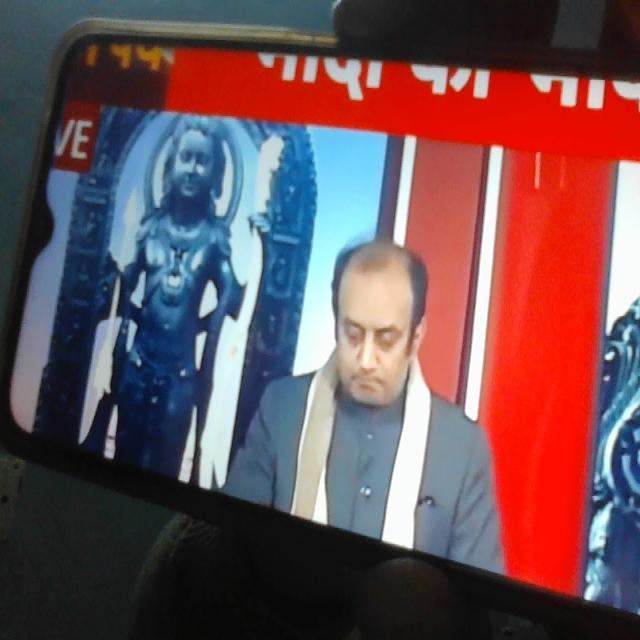fake: (314, 216, 430, 435)
